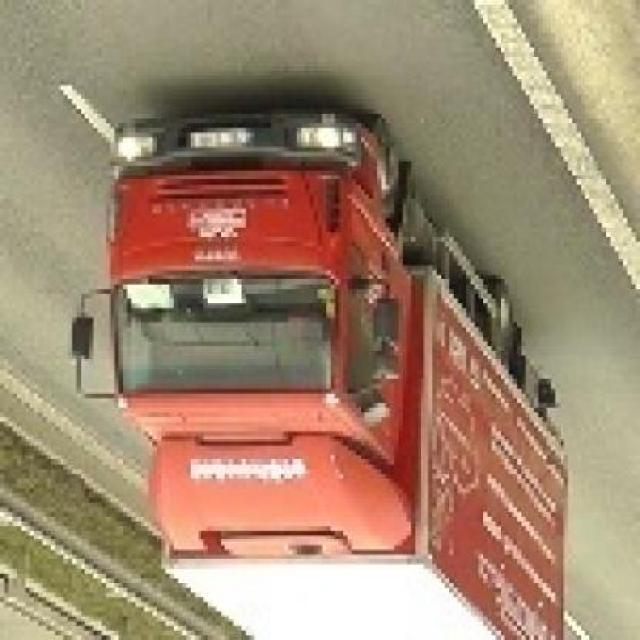truck: (68, 115, 565, 640)
